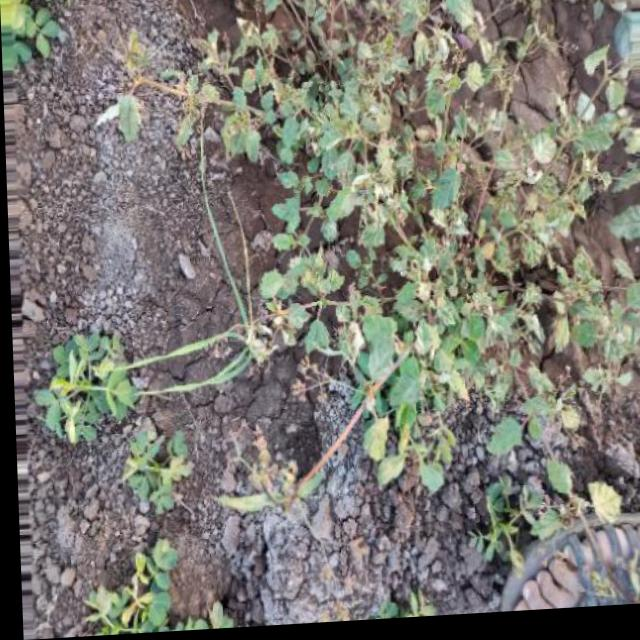weed: (198, 0, 636, 487)
